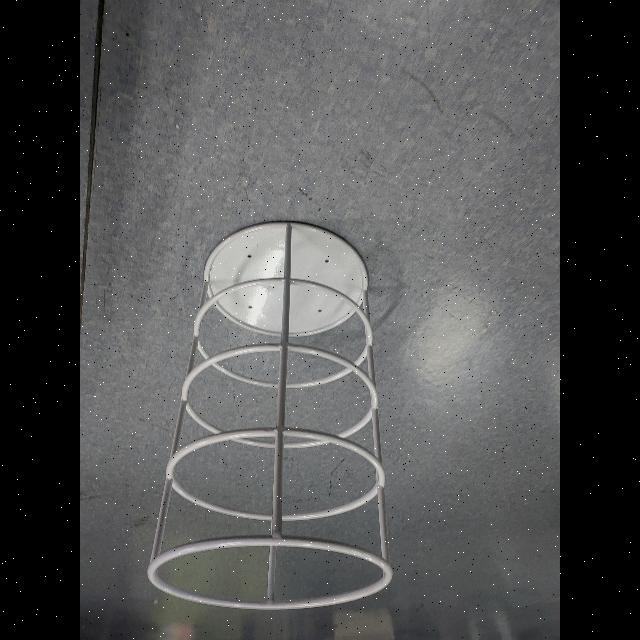S: (143, 216, 400, 614)
